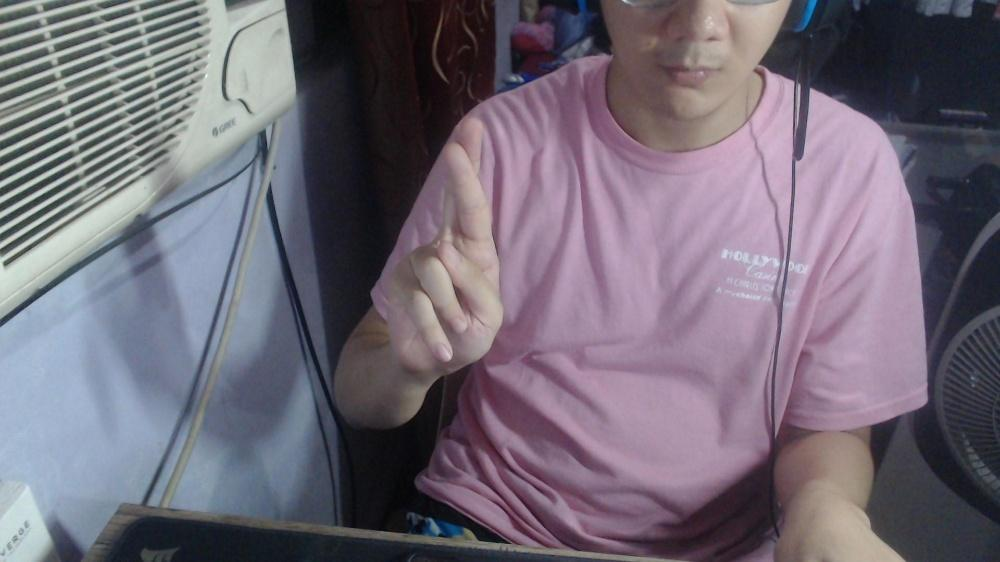r: (382, 113, 504, 376)
